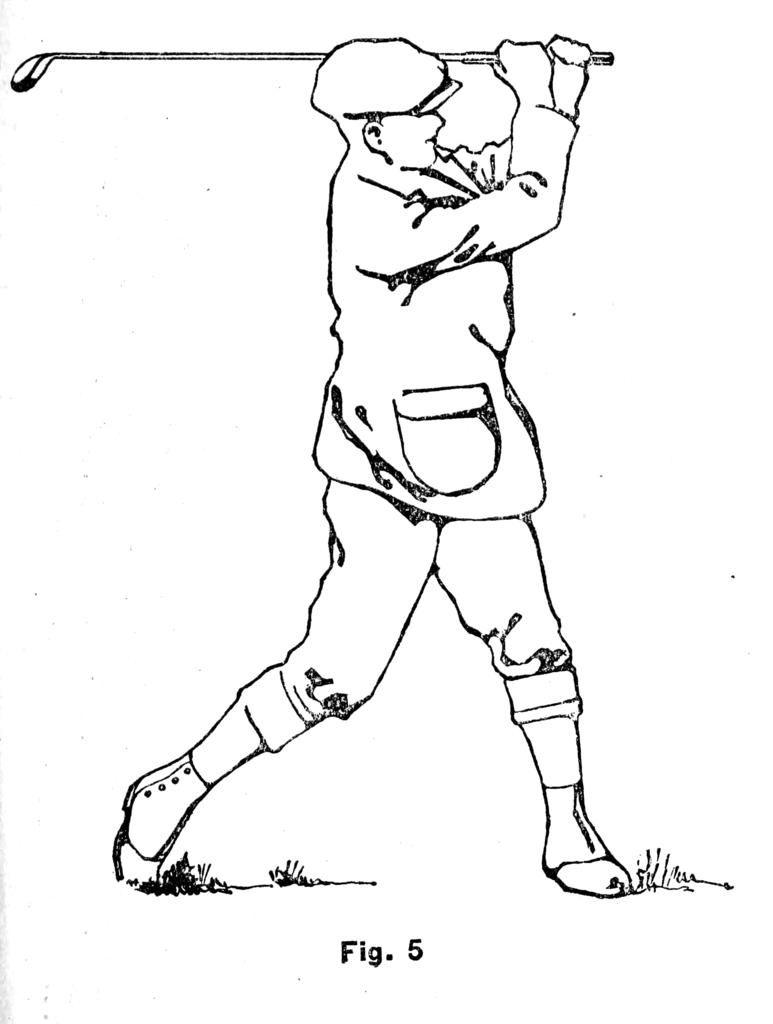Hat: (306, 34, 464, 120)
